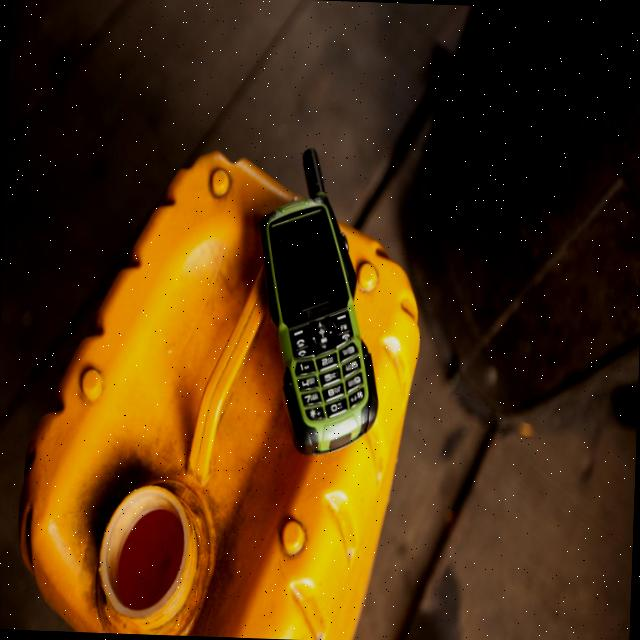Phone: (252, 140, 386, 454)
